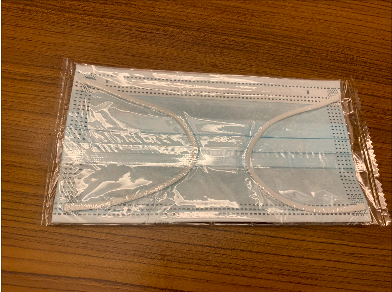object_name: (53, 48, 382, 241)
